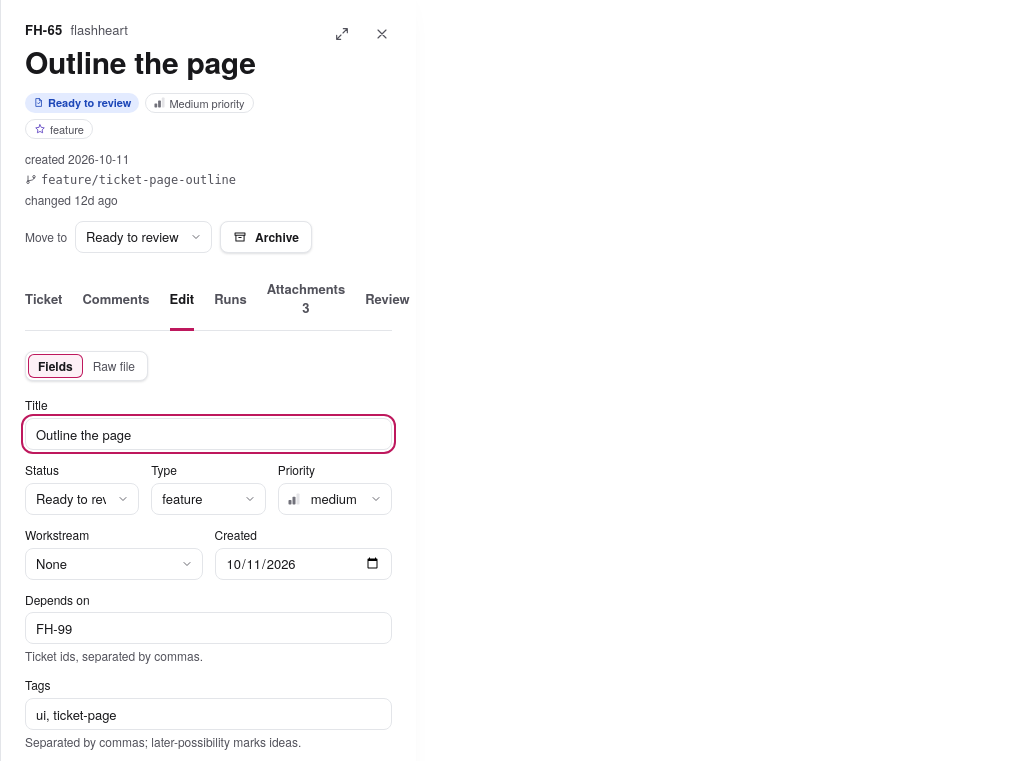
Test: the card panel's Edit tab with unsaved changes (FH-138) › asks before closing the panel, and Keep editing returns to the Edit tab with focus in it
Step 1. Replace the text in the field labelled "Title" with "Outline the whole page" → (208, 434), box [25,418,392,450]
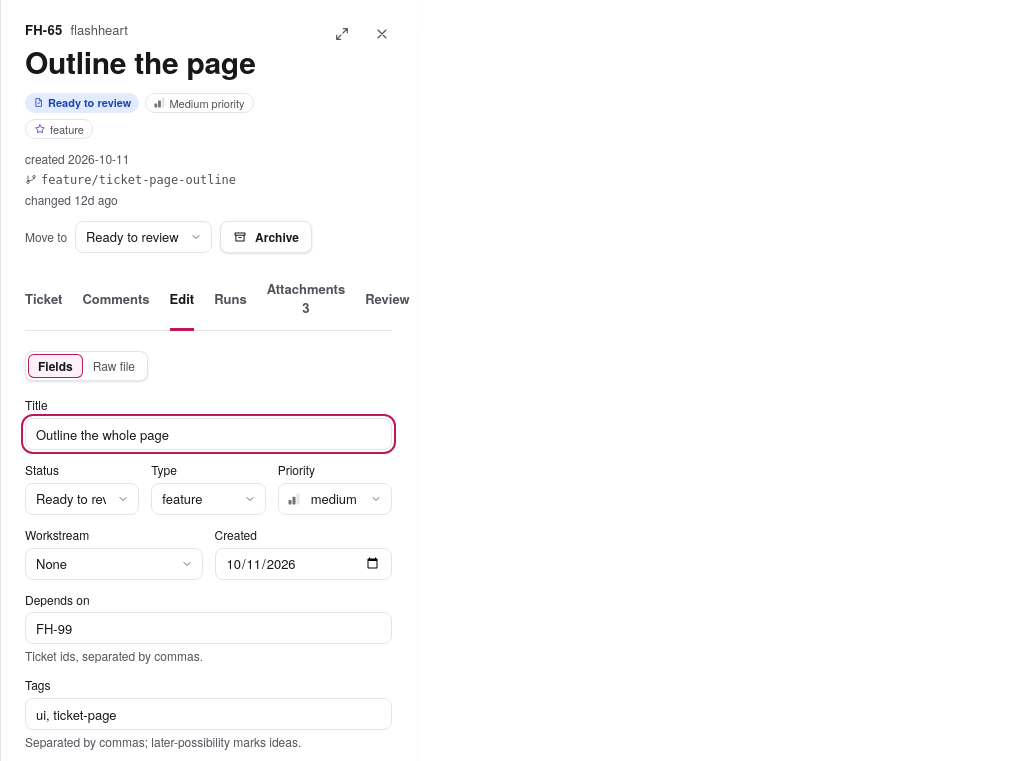
Step 2. Click the tab "Ticket" → (44, 300), box [25,269,62,330]
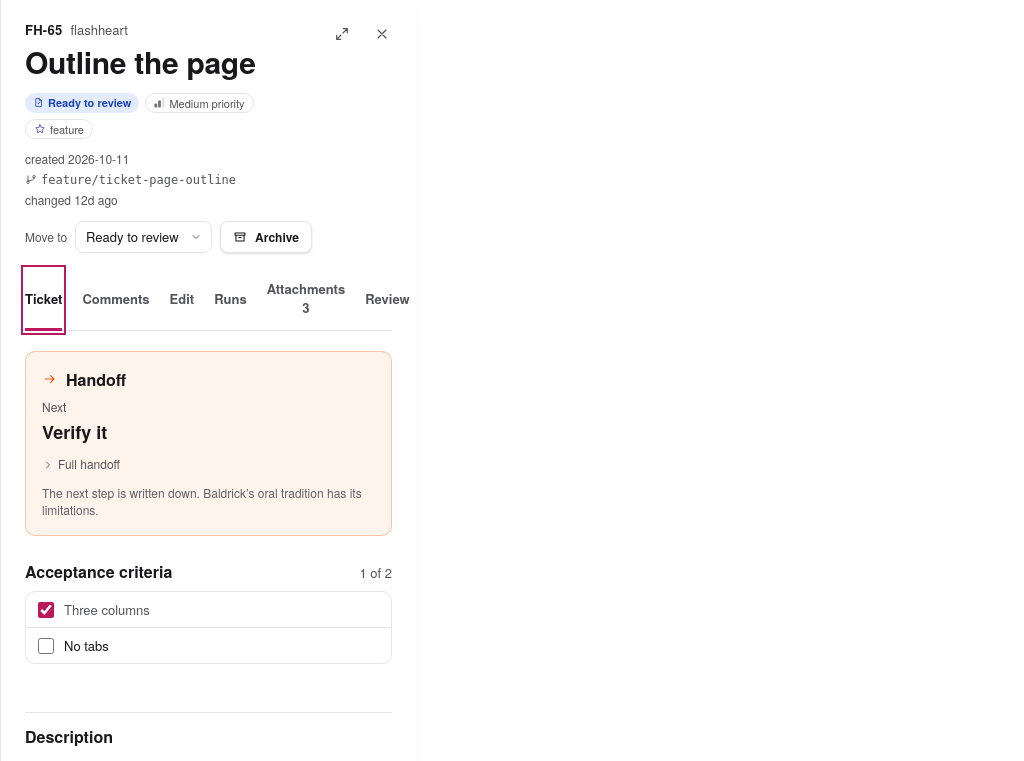
Step 3. Click the button named "Close ticket" → (382, 34), box [364,16,400,52]
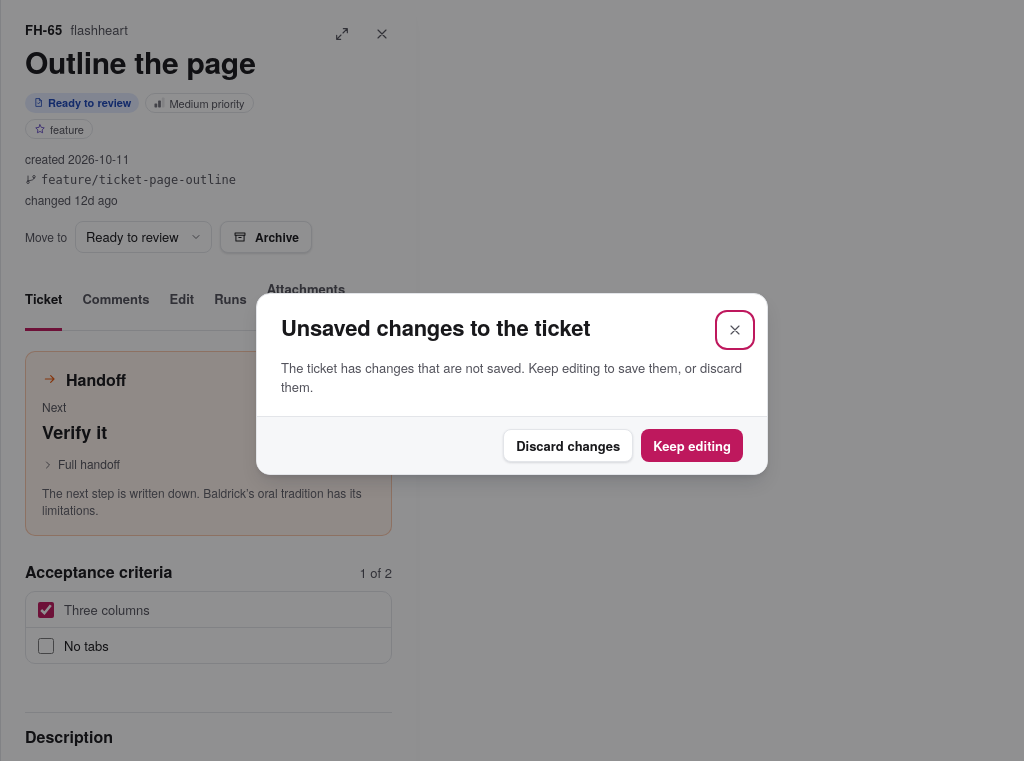
Step 4. Click the button "Keep editing" → (692, 446), box [641,429,743,462]
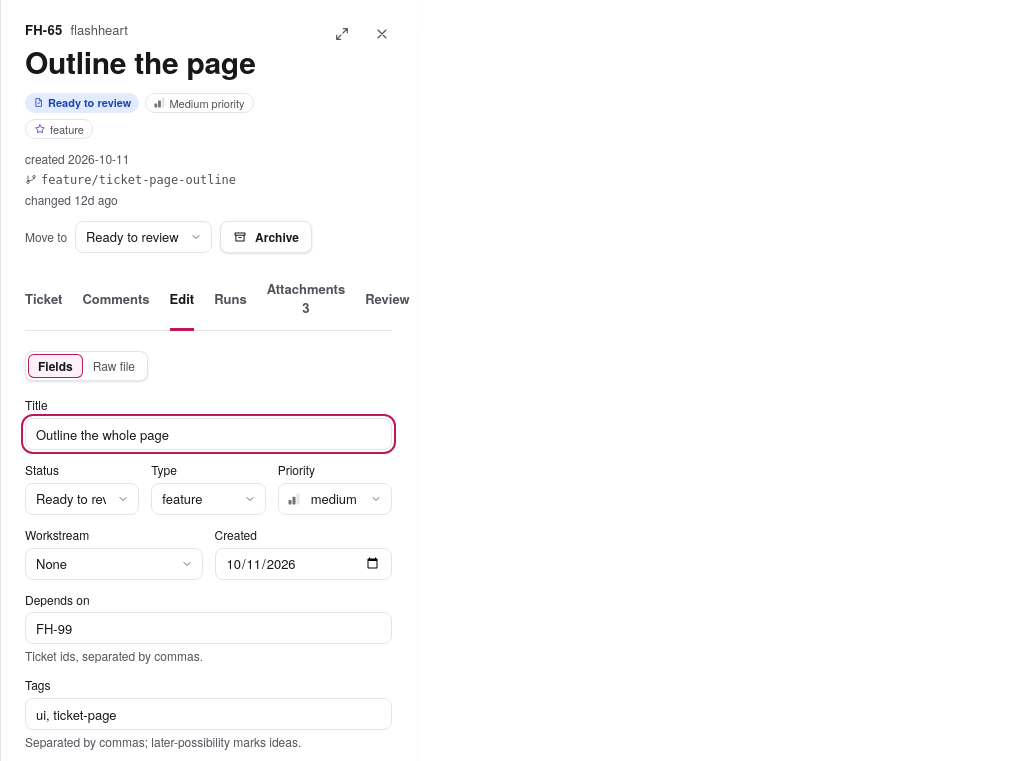
Check: the tab "Edit" is selected, box [170,269,194,330]
Step 5. Click the button named "Close ticket" → (382, 34), box [364,16,400,52]
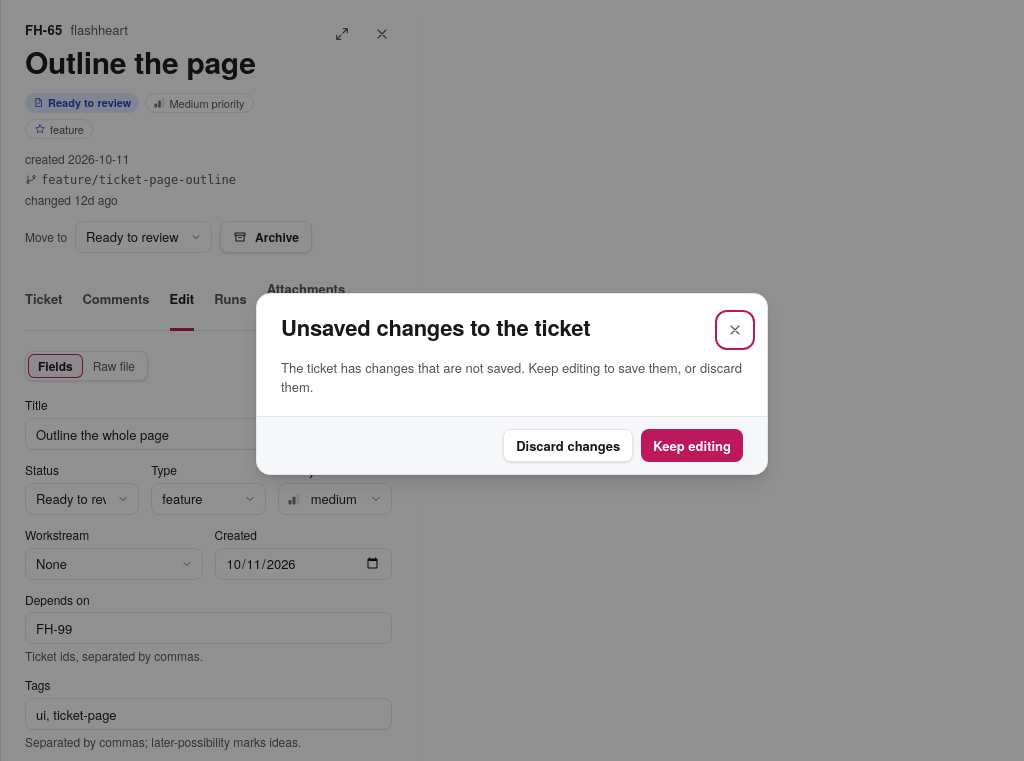
Step 6. Click the button "Discard changes" → (568, 446), box [503,429,633,462]
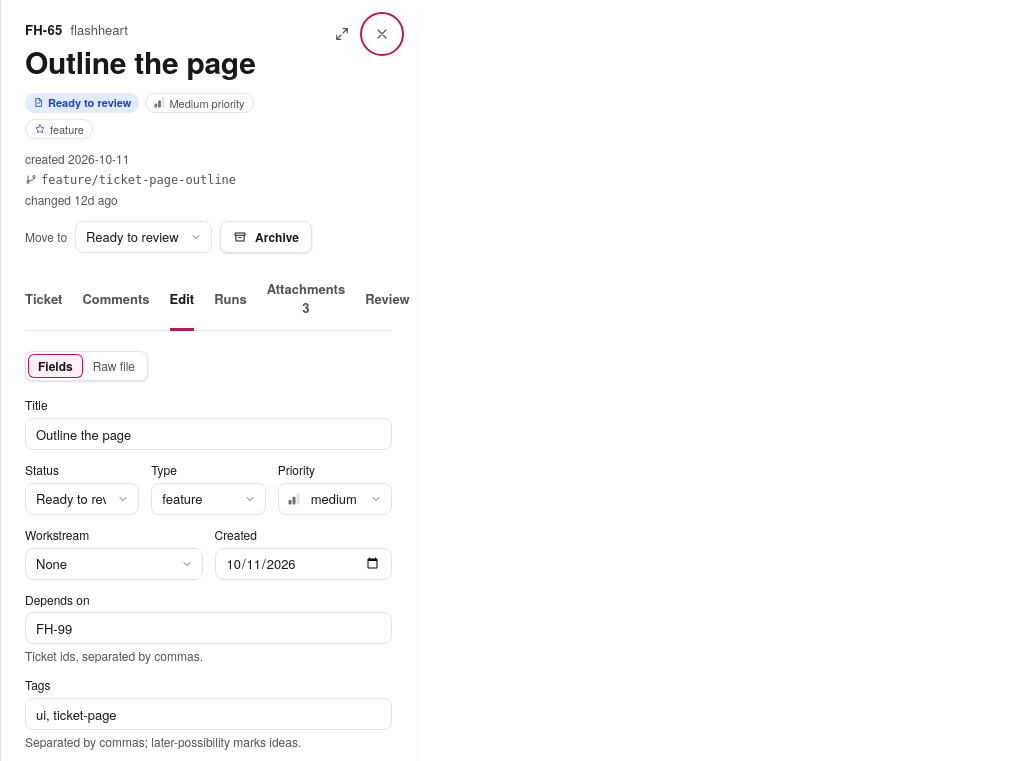
Check: the field labelled "Title" holds "Outline the page", box [25,418,392,450]
